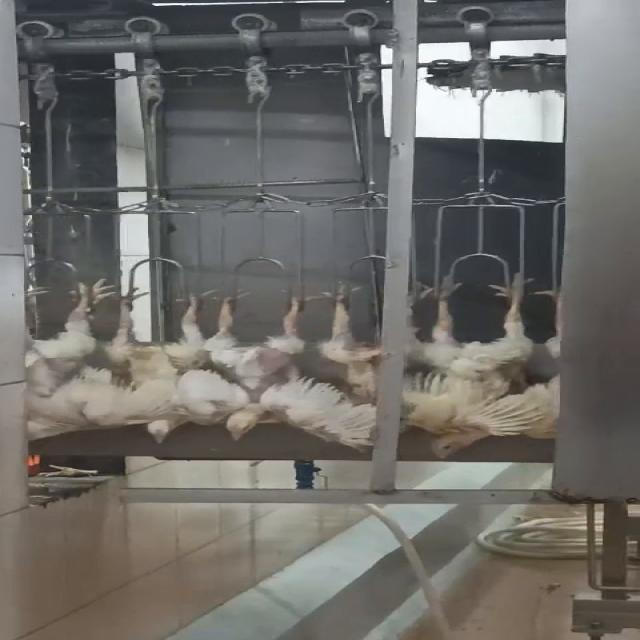chicken: (404, 268, 538, 465), (0, 279, 131, 443), (118, 278, 230, 448), (199, 283, 317, 442), (318, 275, 379, 404), (526, 276, 566, 446)
